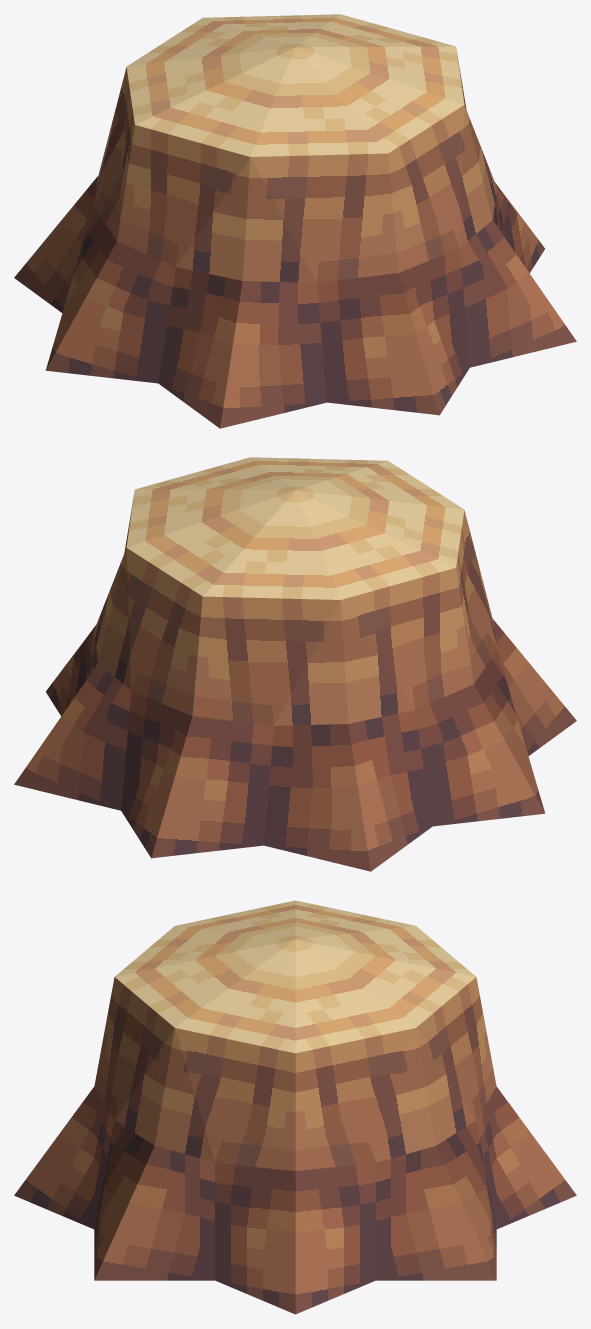
Rendered from stump.fbx.
3 views of the same model, one above another, from view 1: azimuth 30°, elevation 25°; view 2: azimuth 150°, elevation 25°; view 3: azimuth 270°, elevation 25° (orthographic). The views are drawn at different scales.
Parts seen in each view (by area): view 1: Stump; view 2: Stump; view 3: Stump.
Boxes of the visible parts, x1,y1,x2,y2 form: Stump: (14,14,576,428); Stump: (14,457,576,871); Stump: (14,900,576,1314).
Bounding box in the file's own units: 87.5 × 43.93 × 87.5.
1 material, 1 textured.
